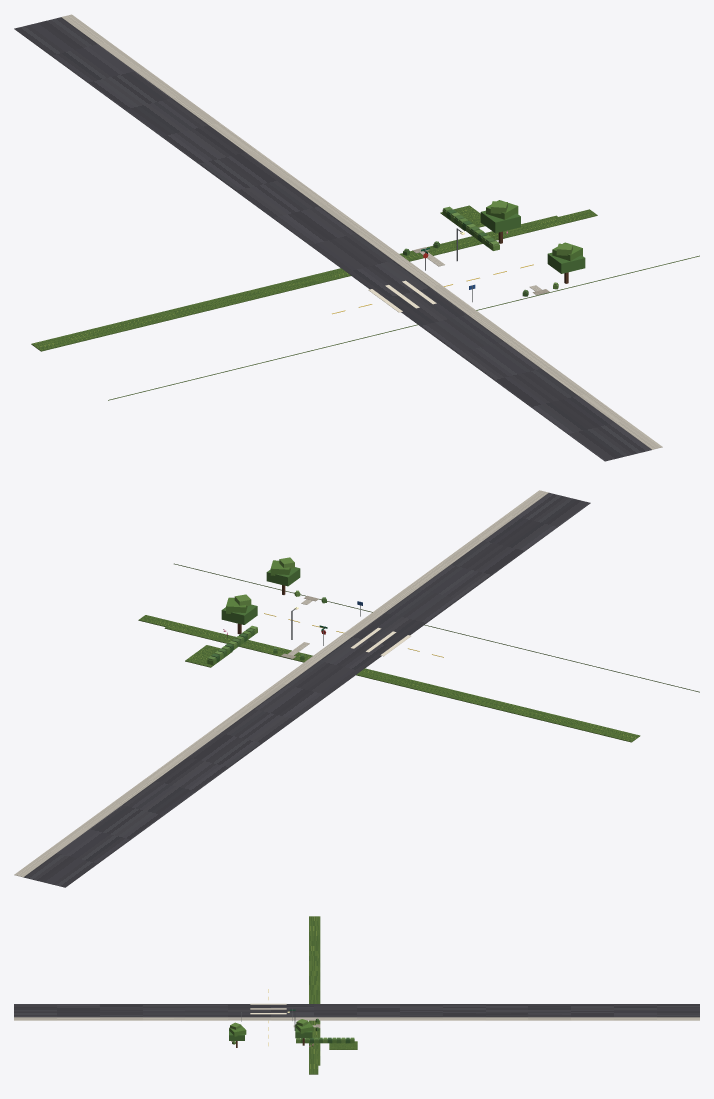
Rendered from structure.glb.
3 views of the same model, one above another, from view 1: azimuth 30°, elevation 25°; view 2: azimuth 150°, elevation 25°; view 3: azimuth 270°, elevation 25° (orthographic). The views are drawn at different scales.
Parts seen in each view (by area): view 1: Box5, Box12, Box3, Box1, Box2; view 2: Box5, Box12, Box3, Box1; view 3: Box5, Box12, Box3, Box1.
Part boxes in pixels (x1,y1,x2,y2): Box5: [14, 17, 651, 461]; Box12: [61, 14, 662, 449]; Box3: [33, 209, 597, 351]; Box1: [31, 215, 557, 345]; Box2: [108, 255, 699, 400]; Box5: [23, 492, 590, 887]; Box12: [14, 490, 548, 877]; Box3: [138, 615, 640, 740]; Box1: [164, 627, 632, 742]; Box5: [14, 1004, 699, 1017]; Box12: [14, 1017, 699, 1020]; Box3: [309, 916, 318, 1074]; Box1: [318, 916, 320, 1065].
Size of the model in its own units: 87.89 by 5.79 by 152.
Materials: 25 (4 with a texture image).
